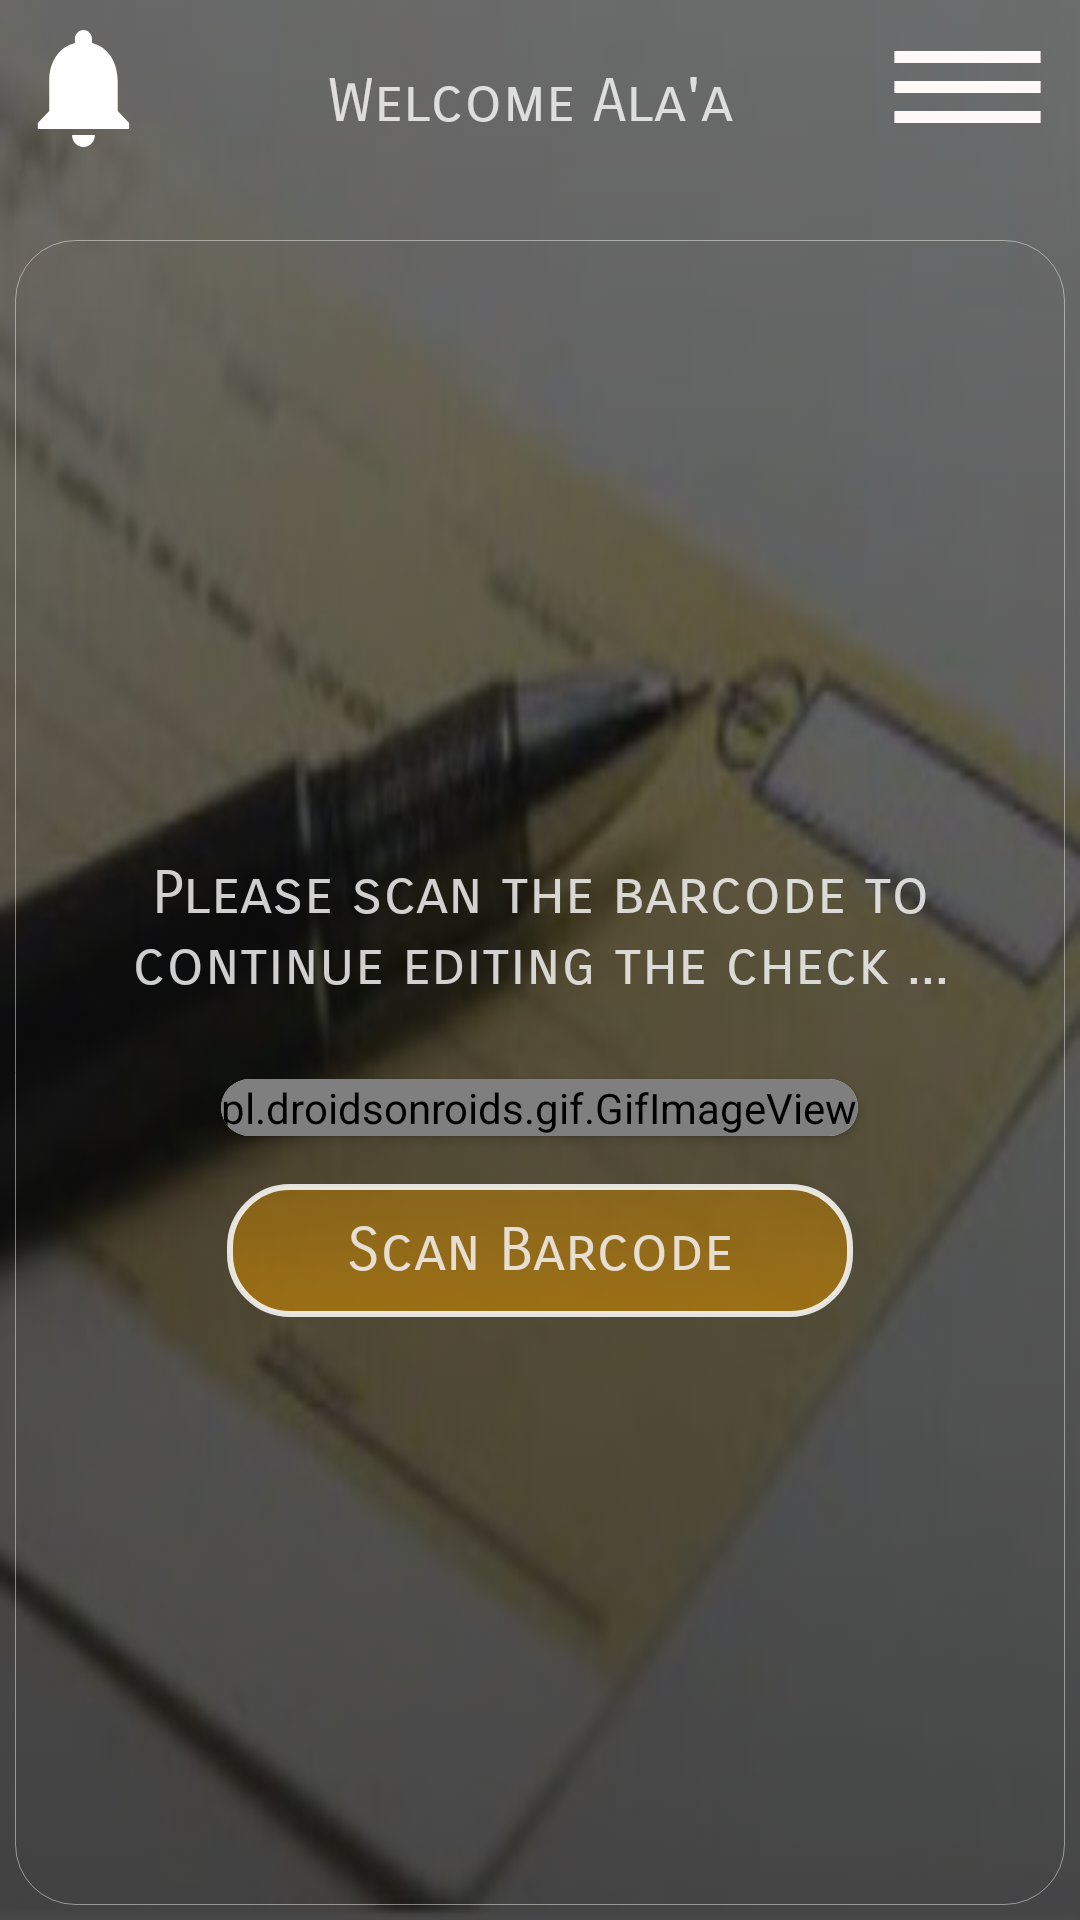

Where to tap for icons on this 1080w x 1920h app screen, as (x,y):
menu: (967,87)
notifications: (73,94)
